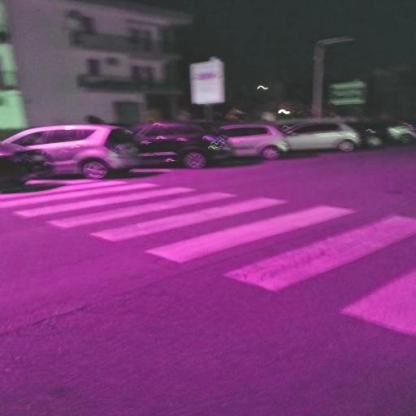crosswalk: (86, 194, 363, 268)
